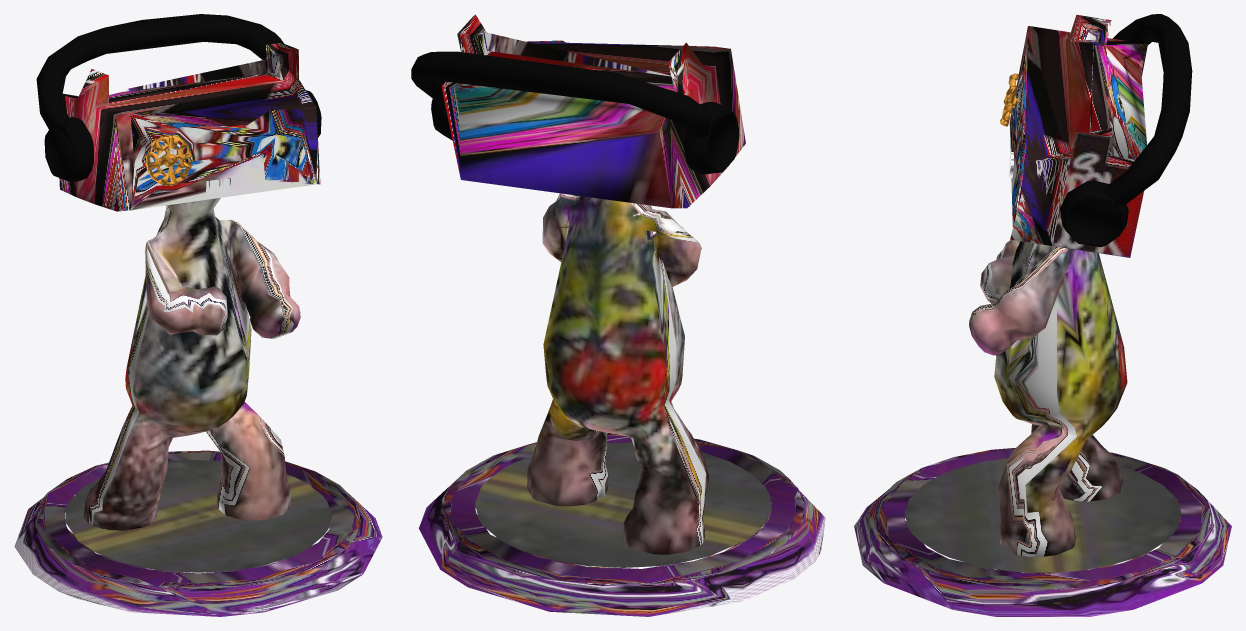
3 renders of one model, left to right at view 1: azimuth 30°, elevation 25°; view 2: azimuth 150°, elevation 25°; view 3: azimuth 270°, elevation 25°, orthographic. The views are drawn at different scales.
Bounding box in the file's own units: 1.42 × 2.05 × 1.43.
7 materials, 5 textured.
